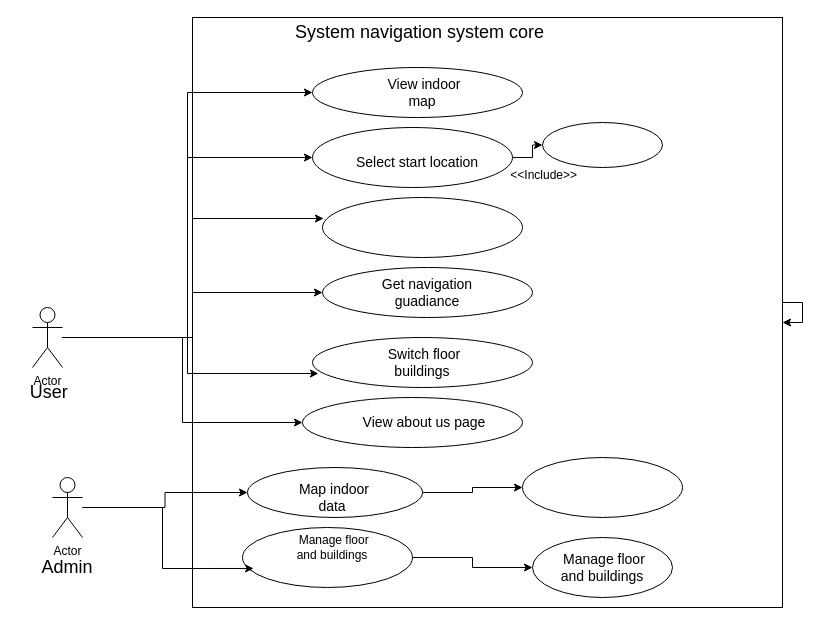
Some shapes in this 828 by 625 pixel diagram are drawn without their labels. The box of each missing label's shape, as (x1, y1, x2, y2) in pixels:
Add or update location: (522, 456, 682, 518)
Display navigation path: (322, 196, 522, 258)
Select Destination: (542, 122, 662, 168)
